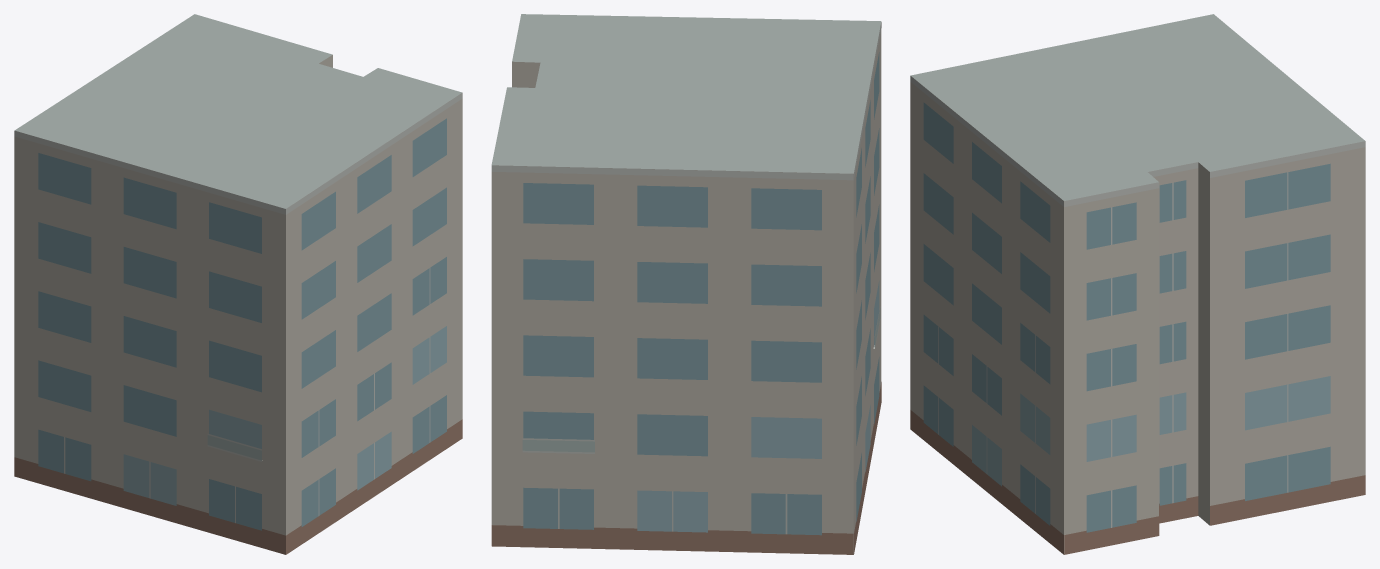
File: survey-upis-32666593.glb
3 renders of one model, left to right at view 1: azimuth 30°, elevation 25°; view 2: azimuth 150°, elevation 25°; view 3: azimuth 270°, elevation 25°, orthographic. The views are drawn at different scales.
Parts seen in each view (by area): view 1: survey-upis-32666593.tmp; view 2: survey-upis-32666593.tmp; view 3: survey-upis-32666593.tmp.
Part boxes in pixels (<box>): survey-upis-32666593.tmp: <box>14,14,462,554</box>; survey-upis-32666593.tmp: <box>491,14,881,554</box>; survey-upis-32666593.tmp: <box>910,14,1365,554</box>.
Bounding box in the file's own units: 16.18 × 14.25 × 16.63.
